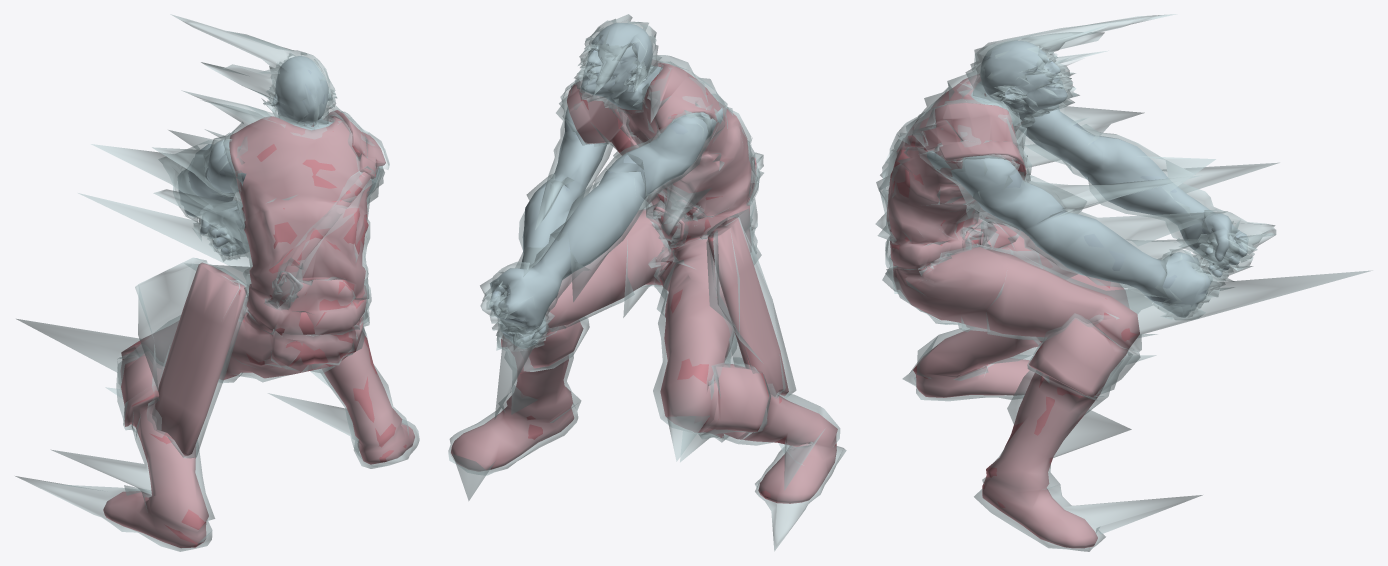
The model's file is frozenguy2.dae.
The picture shows the model from 3 angles, left to right: view 1: azimuth 30°, elevation 25°; view 2: azimuth 150°, elevation 25°; view 3: azimuth 270°, elevation 25°; orthographic projection. The views are drawn at different scales.
Parts seen in each view (by area): view 1: polySurface4; view 2: polySurface4; view 3: polySurface4.
Boxes of the visible parts, box(x1,y1,x2,y2) form: polySurface4: box(15, 14, 419, 551); polySurface4: box(448, 14, 846, 551); polySurface4: box(875, 14, 1372, 551).
Size of the model in its own units: 305 by 363 by 359.
